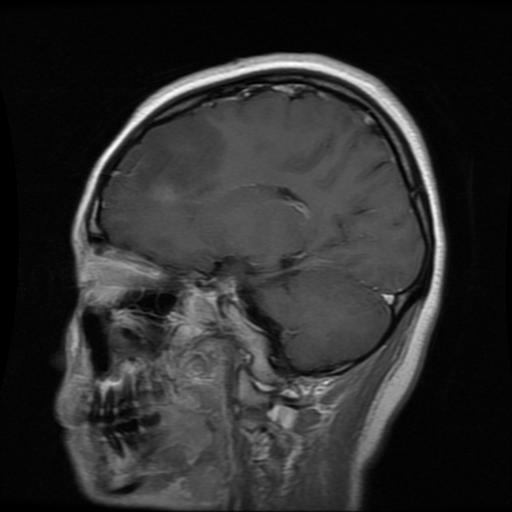Gliomia_tumour: (117, 113, 224, 184)
